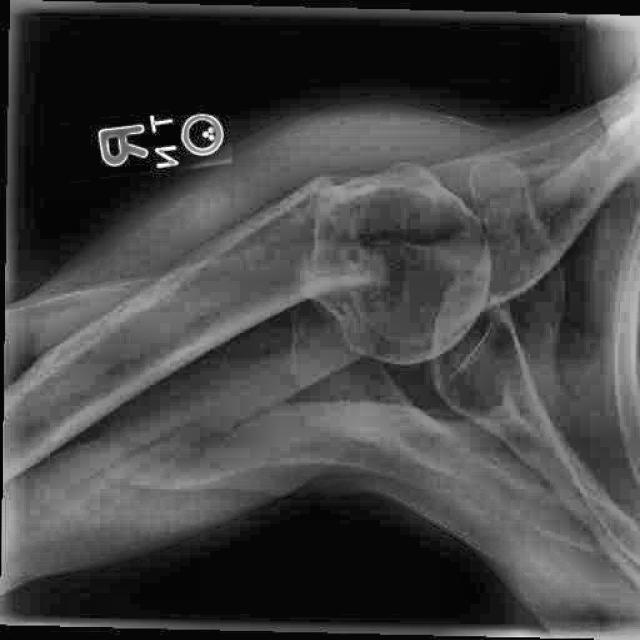shoulder fracture: (275, 140, 428, 335)
